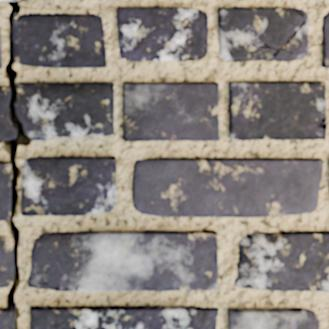brick: (28, 231, 217, 290), (133, 159, 322, 216), (235, 231, 328, 290), (229, 82, 325, 139), (123, 83, 218, 140), (22, 157, 115, 215), (13, 13, 105, 67), (218, 8, 307, 61), (118, 8, 207, 60), (31, 306, 218, 328), (228, 308, 318, 328), (0, 235, 12, 287), (0, 162, 10, 219), (322, 12, 328, 67), (0, 308, 11, 328), (0, 34, 1, 67)
broken_brick: (16, 81, 114, 141), (0, 85, 15, 140)
crack: (0, 0, 31, 328), (249, 9, 306, 57), (36, 281, 80, 292), (317, 118, 326, 132), (305, 81, 325, 86)
